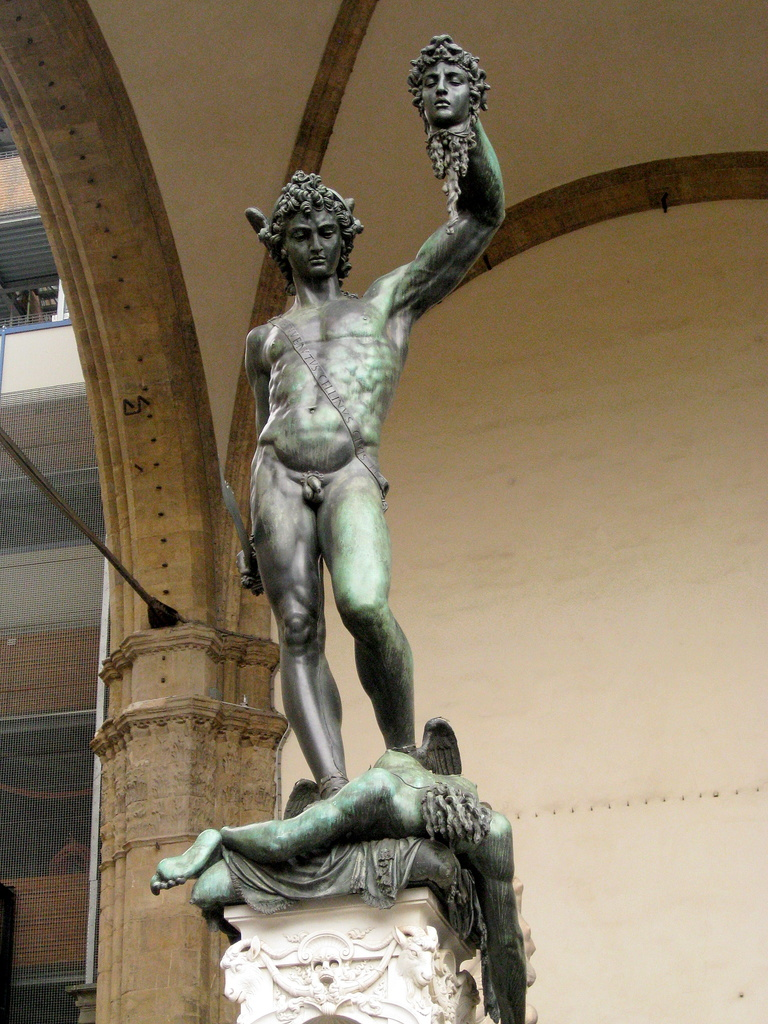Person: (236, 36, 506, 810), (150, 747, 493, 897)
